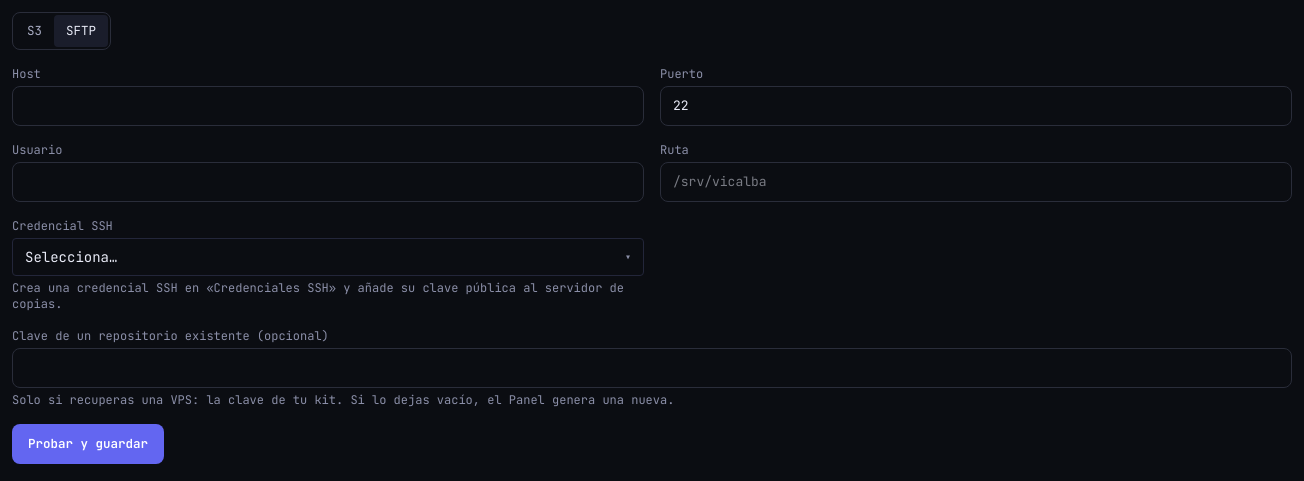
Scenario: DestinoBackupForm › SFTP sin credenciales SSH avisa de que hay que crear una
Expected: the field labelled "Host" is shown, [12,86,644,126]
Expected: the text "Crea una credencial SSH en «Credenciales SSH»" is shown, [12,280,624,312]
Click the button "S3": (34, 31) [15,15,54,47]
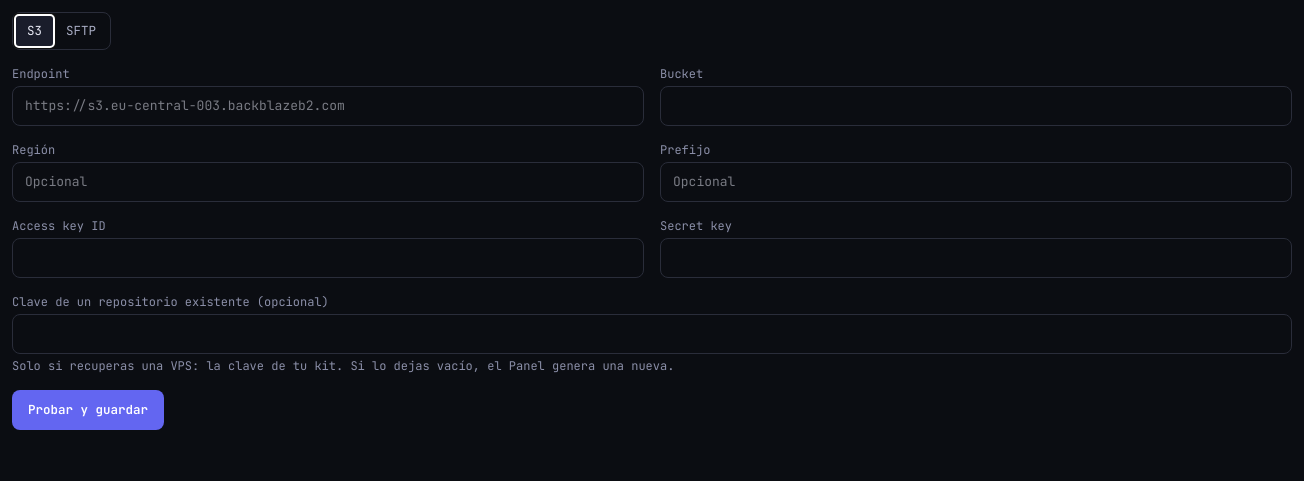
Expected: the field labelled "Bucket" is shown, [660,86,1292,126]
